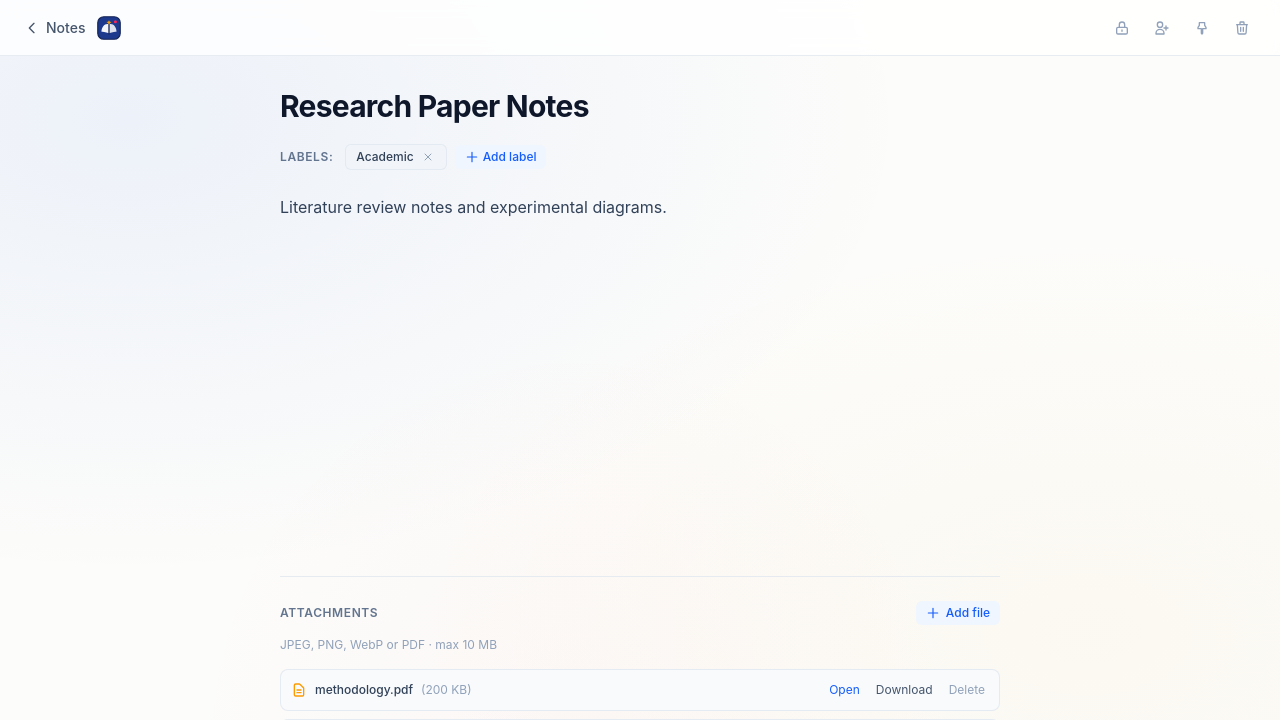
Test case: NOTE-08 & SEC-04 Note Attachments Tests › opens confirmation modal on delete and removes item only after confirmation
expect the text "methodology.pdf" is shown: met, box [315,682,413,698]
Click the button with test id "delete-attachment-button".
click(967, 690)  # box [945,680,989,700]
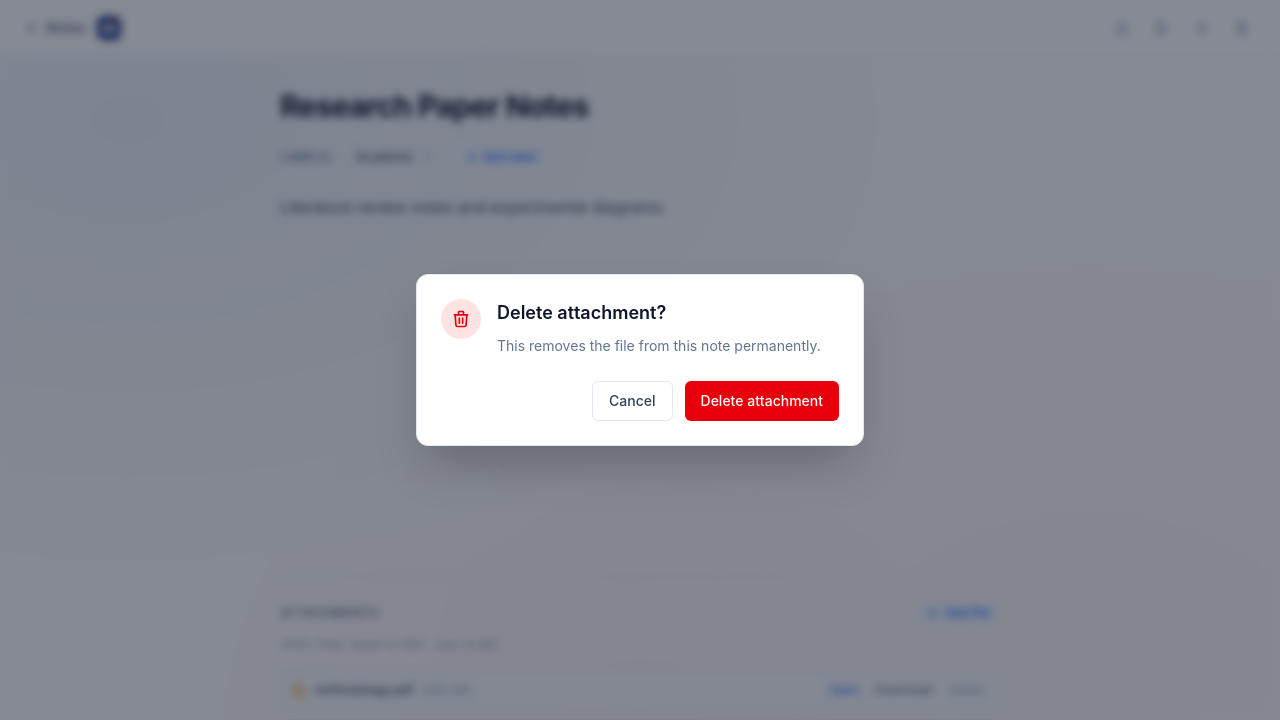
expect the heading "Delete attachment?" is shown: met, box [497,302,666,323]
expect the text "This removes the file from this note permanently." is shown: met, box [497,335,839,357]
Note: Cancel preserves item
Click the button "Cancel".
click(632, 401)  # box [592,381,672,421]
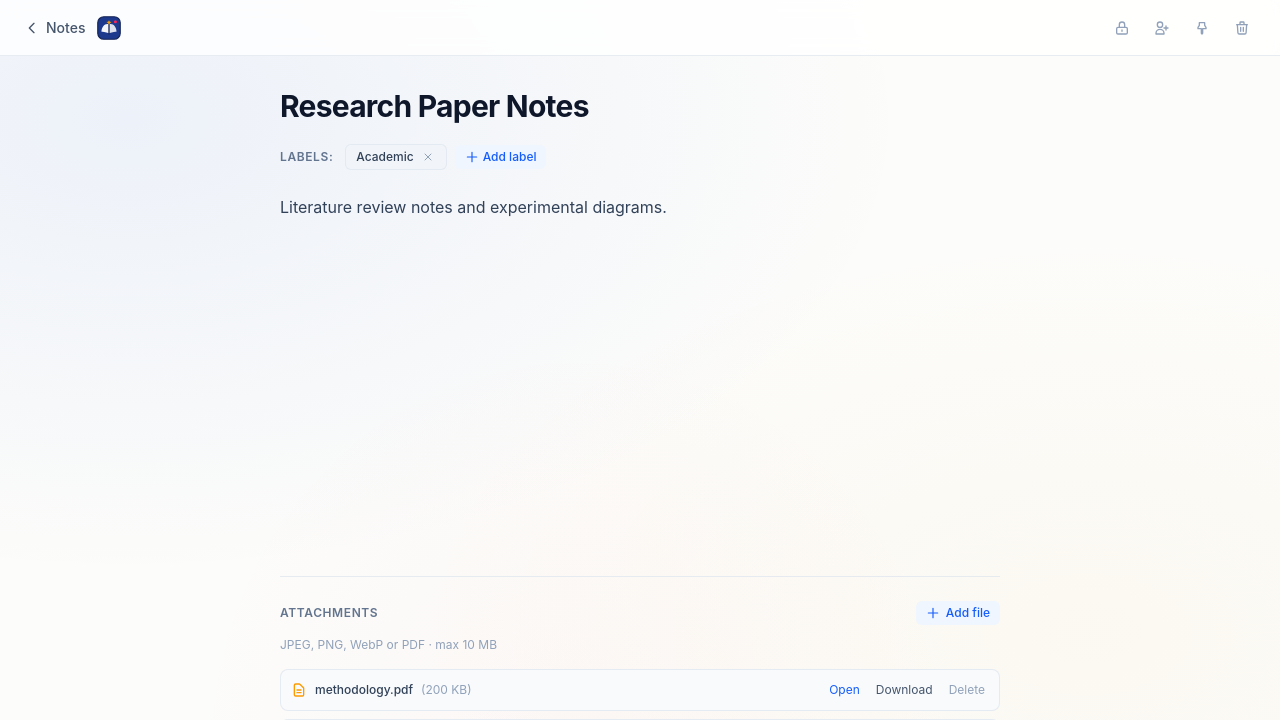
expect the text "methodology.pdf" is shown: met, box [315,682,413,698]
expect the heading "Delete attachment?" is gone: met
Note: Reopen and confirm delete
Click the button with test id "delete-attachment-button".
click(967, 690)  # box [945,680,989,700]
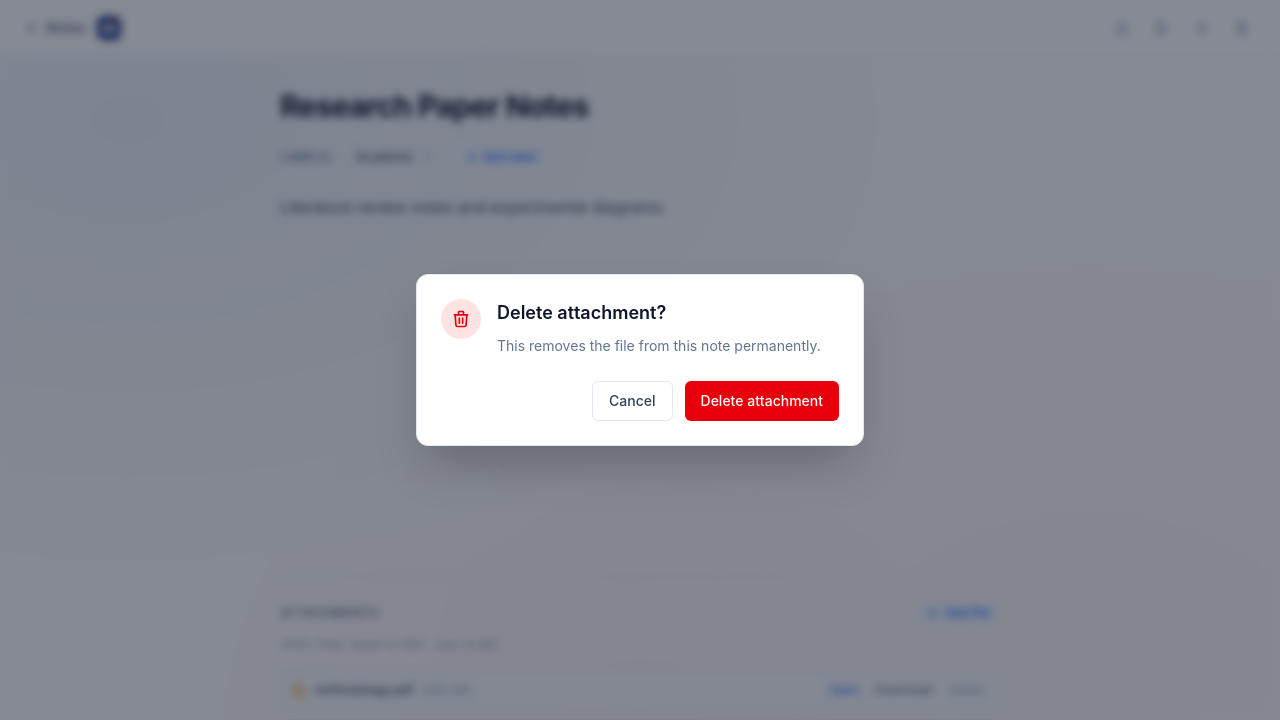
Click the button "Delete attachment".
click(762, 401)  # box [684,381,839,421]
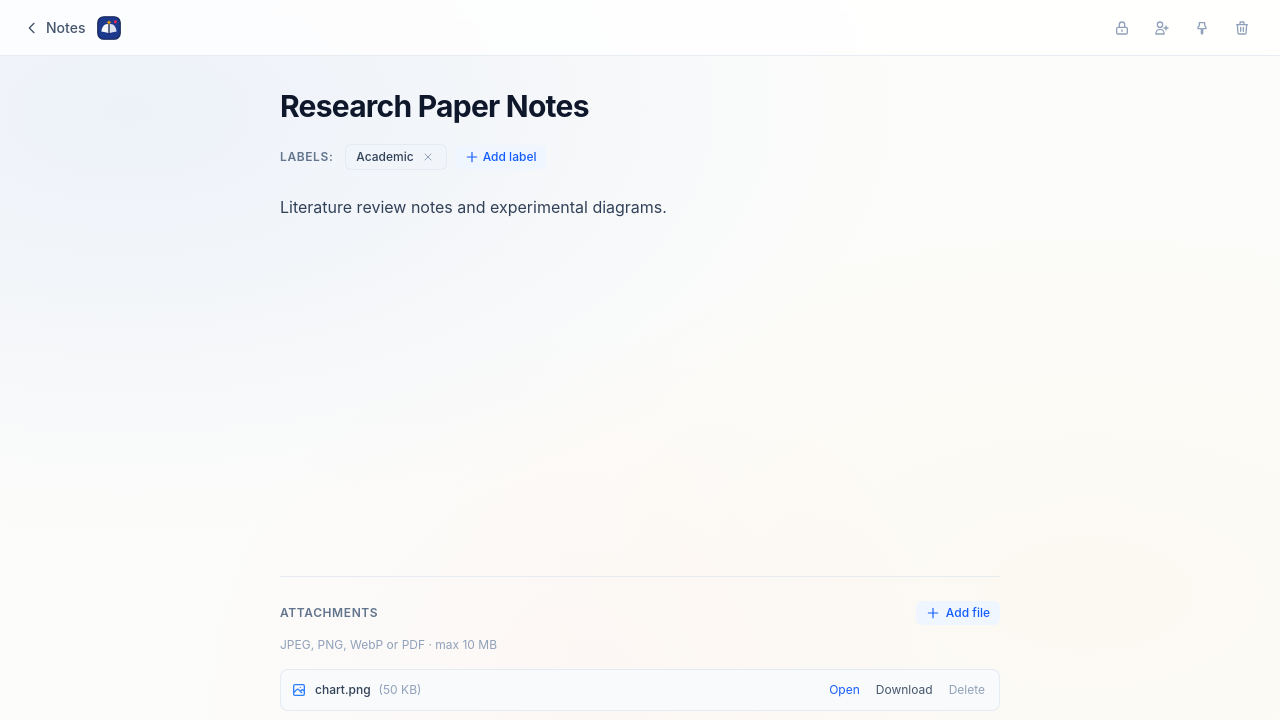
expect the text "methodology.pdf" is gone: met
